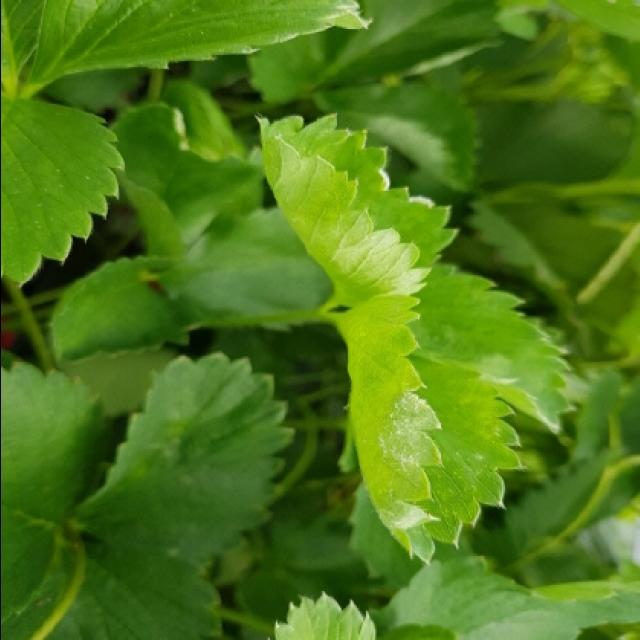Powdery Mildew Leaf: (327, 294, 525, 567), (254, 111, 460, 308)
